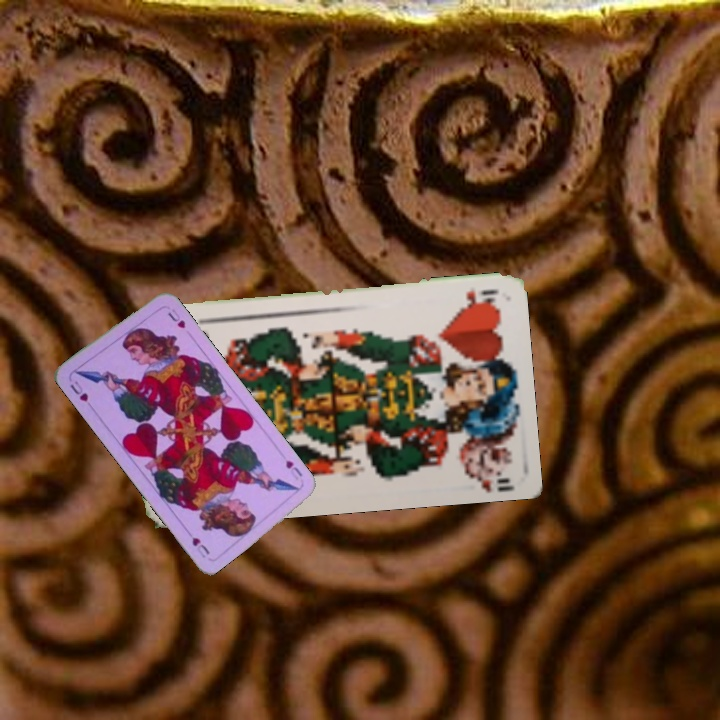HO: (462, 285, 501, 309)
HU: (66, 377, 91, 405), (281, 456, 305, 484)
